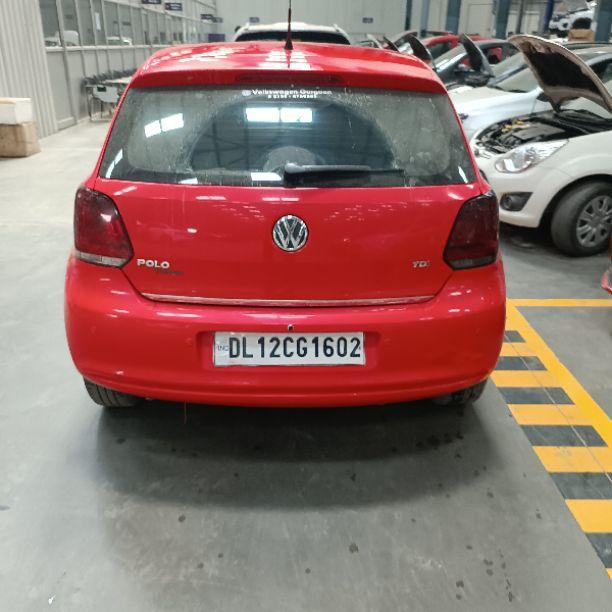license_plate: (211, 329, 366, 367)
